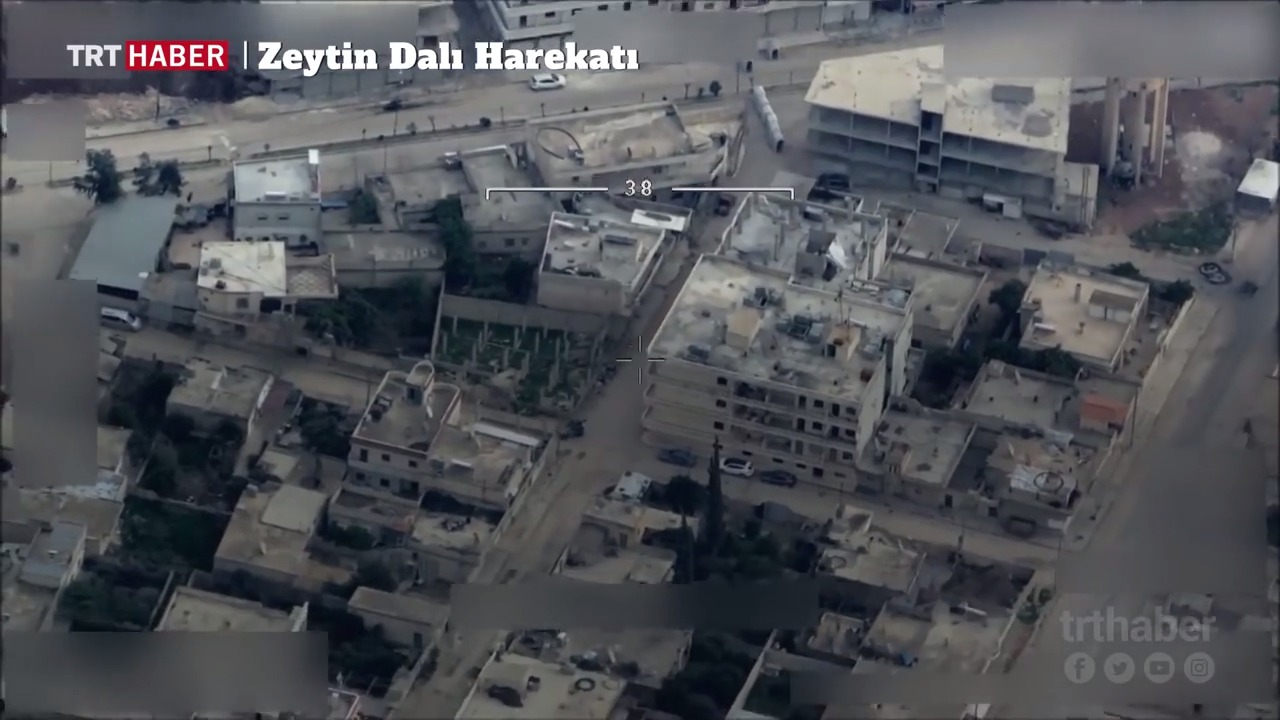arac: (100, 300, 144, 340), (552, 407, 592, 441), (716, 447, 759, 478), (759, 460, 806, 488), (705, 191, 748, 220), (651, 445, 701, 466), (818, 170, 857, 194), (531, 70, 568, 88)
bina: (638, 273, 914, 458), (340, 369, 557, 520), (184, 215, 348, 362), (1019, 242, 1178, 366), (537, 200, 671, 319), (221, 150, 354, 243)
